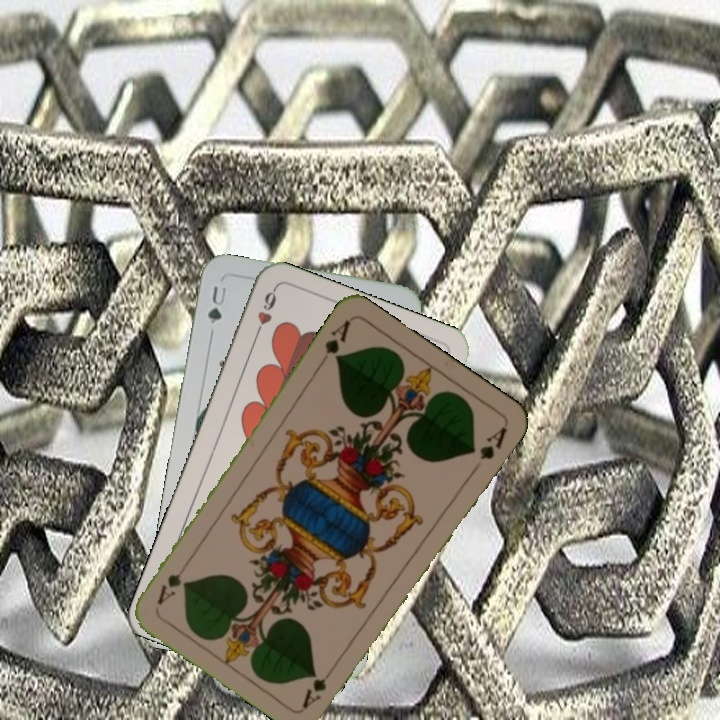GA: (298, 659, 340, 711), (315, 316, 353, 369)
GU: (203, 282, 229, 327)
H9: (250, 285, 279, 342)
